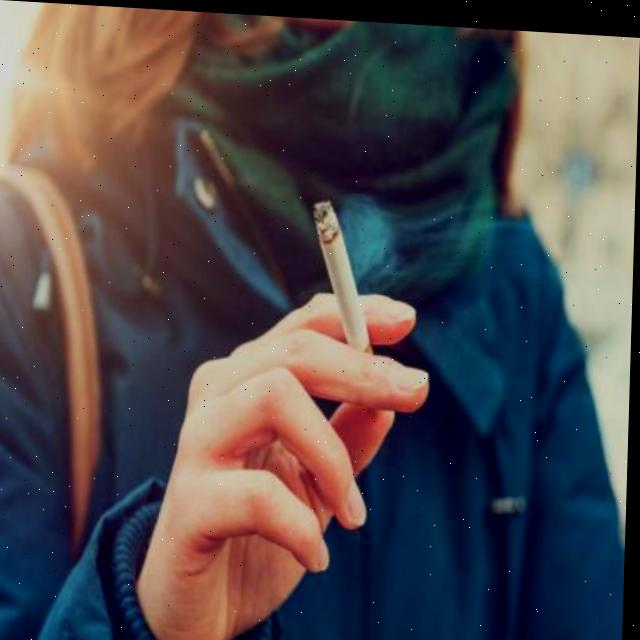cigarette: (308, 196, 378, 354)
